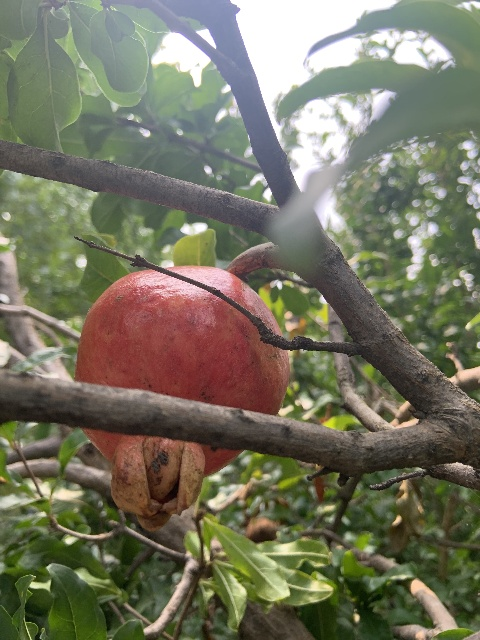ripe: (72, 264, 290, 532)
